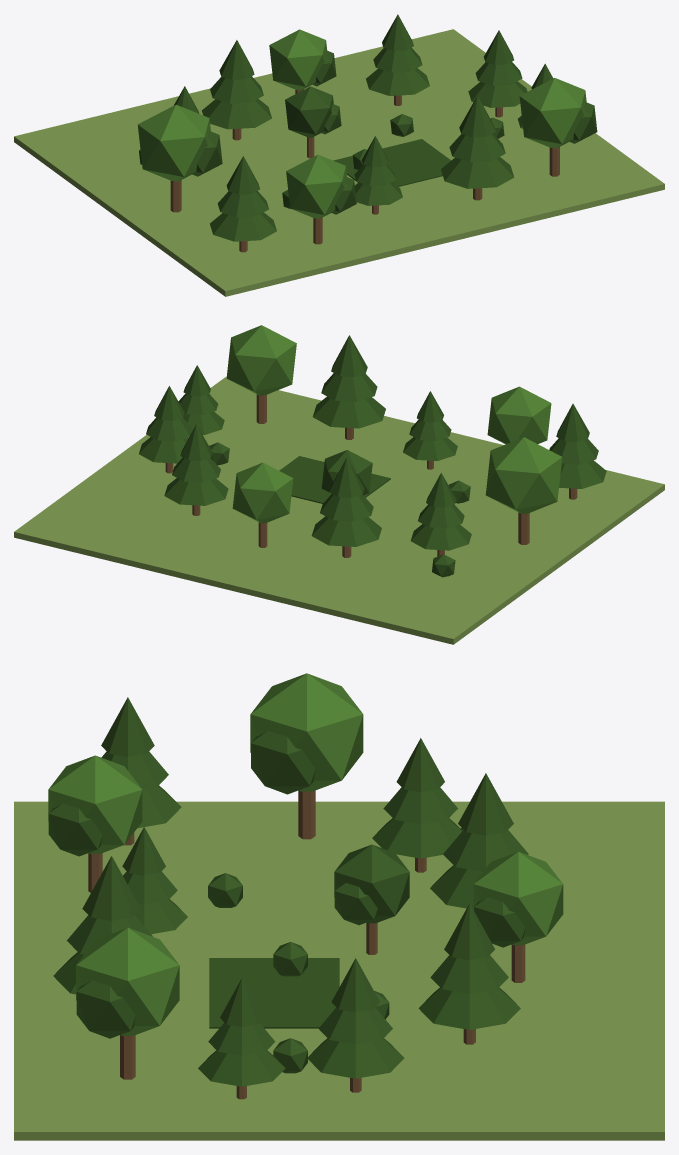
The model's file is landscape.wild-forest.glb.
The picture shows the model from 3 angles, top to bottom: view 1: azimuth 30°, elevation 25°; view 2: azimuth 150°, elevation 25°; view 3: azimuth 270°, elevation 25°; orthographic projection. The views are drawn at different scales.
Visible parts, largest first — view 1: landscape.wild-forest; view 2: landscape.wild-forest; view 3: landscape.wild-forest.
Boxes of the visible parts, x1=… form: landscape.wild-forest: x1=14, y1=14, x2=664, y2=296; landscape.wild-forest: x1=14, y1=325, x2=664, y2=644; landscape.wild-forest: x1=14, y1=673, x2=664, y2=1140.
Size of the model in its own units: 24 by 5.82 by 20.
